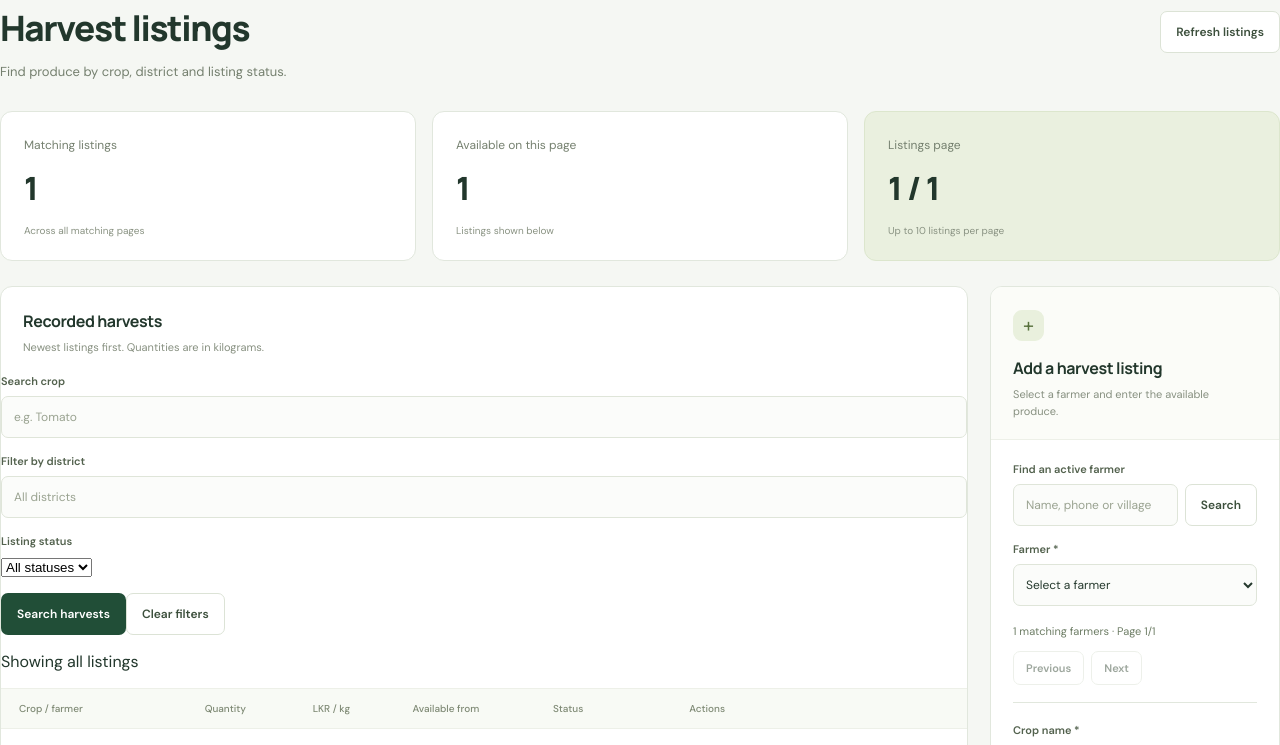
Test: HarvestListings › preserves entered details when saving fails
Select "Demo Farmer — TEST-001 — Matale" in the dropdown labelled "Farmer *" at coordinates (1135, 585), box [1013,564,1257,606]
(page scrolled)
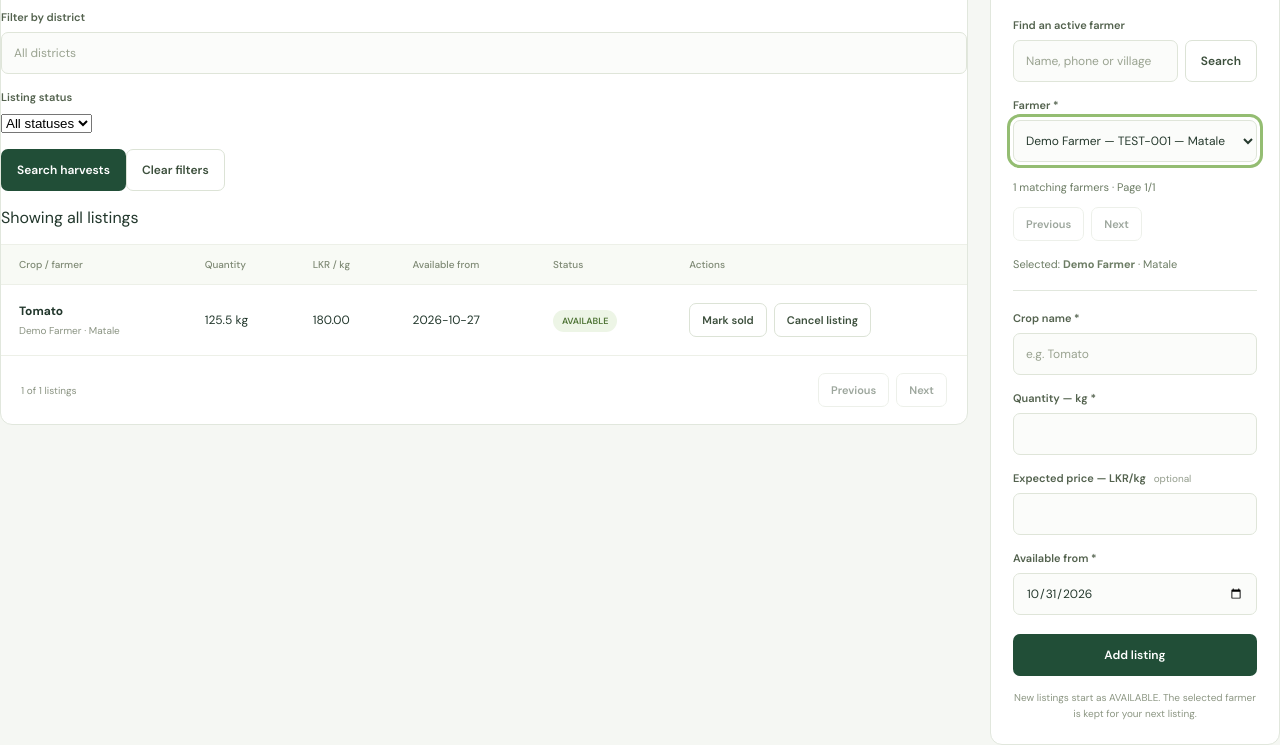
Type "  Tomato  " into the field labelled "Crop name *" at coordinates (1135, 354), box [1013,333,1257,375]
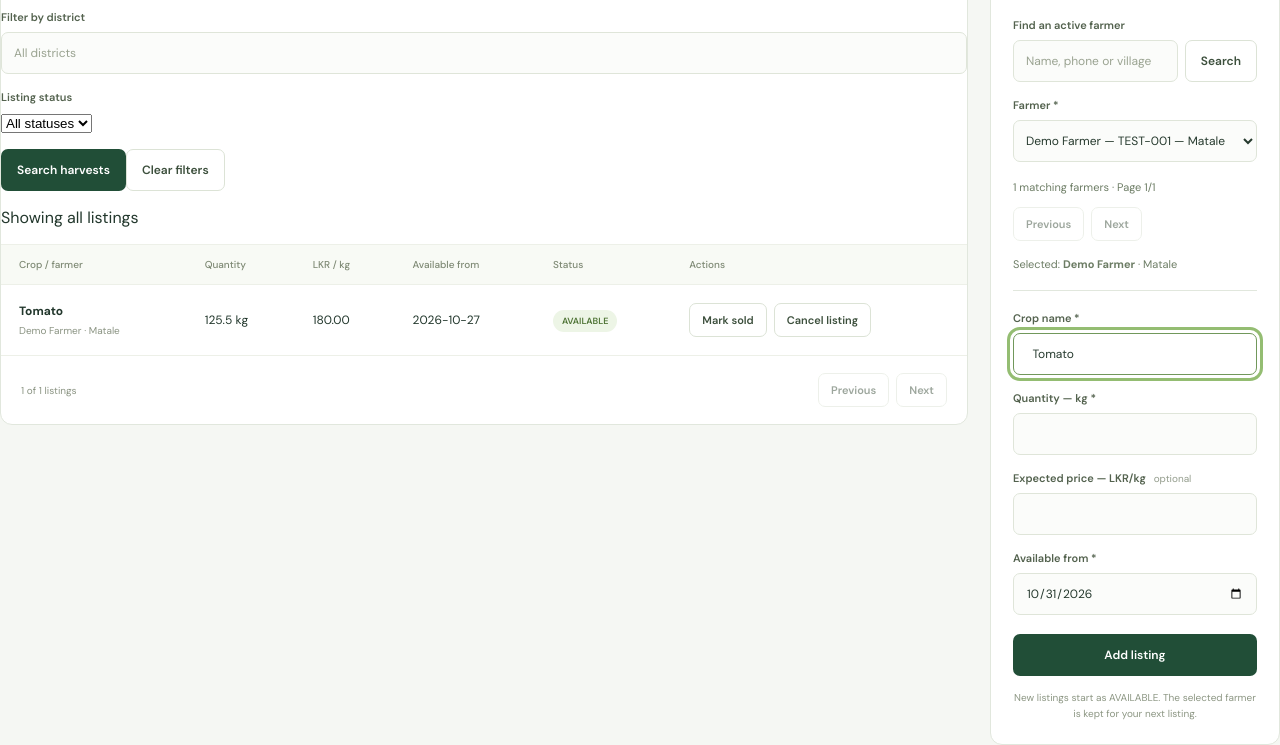
Type "125.5" into the number field labelled "Quantity — kg *" at coordinates (1135, 434), box [1013,413,1257,455]
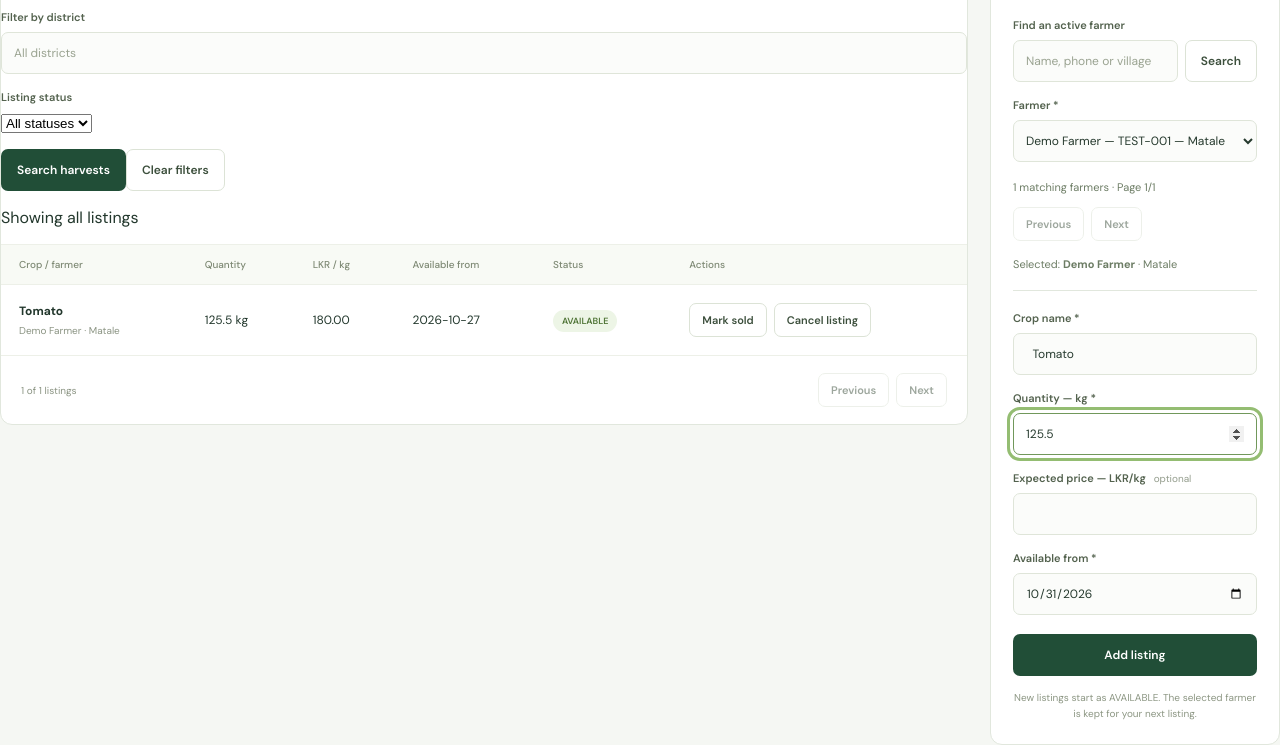
Type "180" into the number field labelled "Expected price — LKR/kg optional" at coordinates (1135, 514), box [1013,493,1257,535]
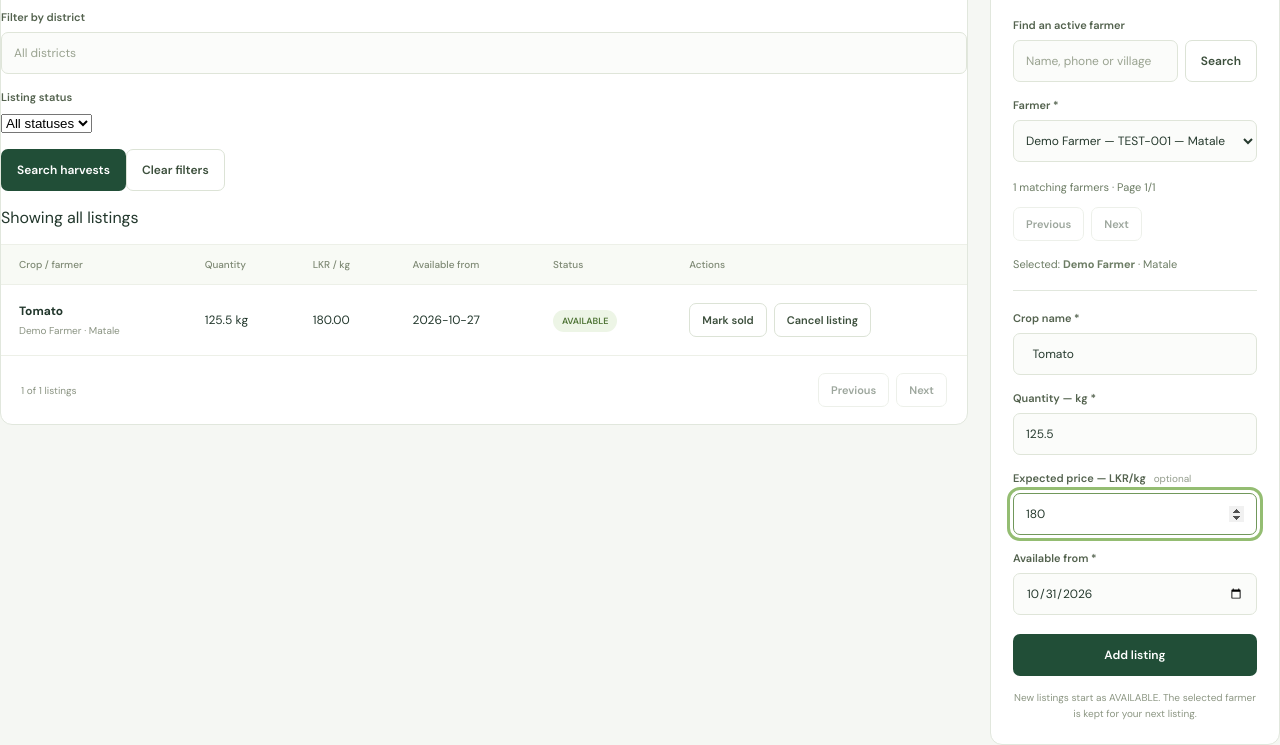
Type "2026-10-27" into the date field labelled "Available from *" at coordinates (1135, 594), box [1013,573,1257,615]
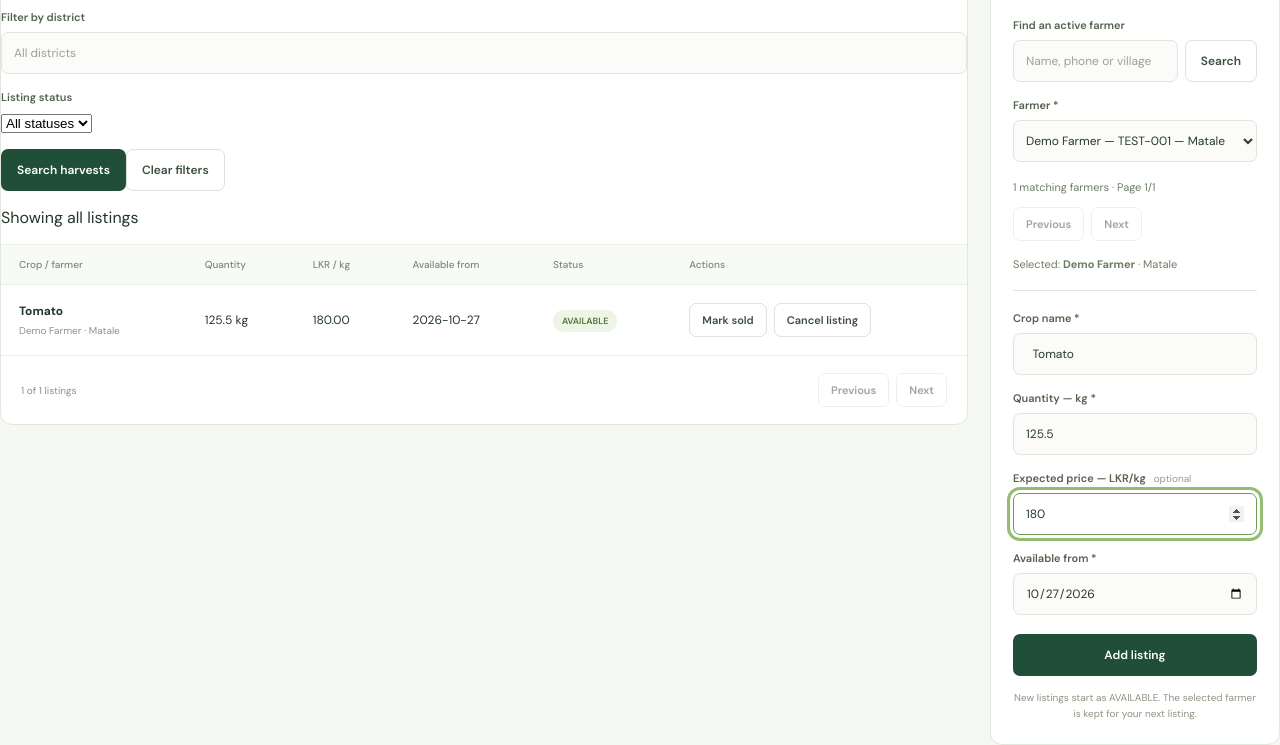
Click the button "Add listing" at coordinates (1135, 655), box [1013,634,1257,676]
(page scrolled)
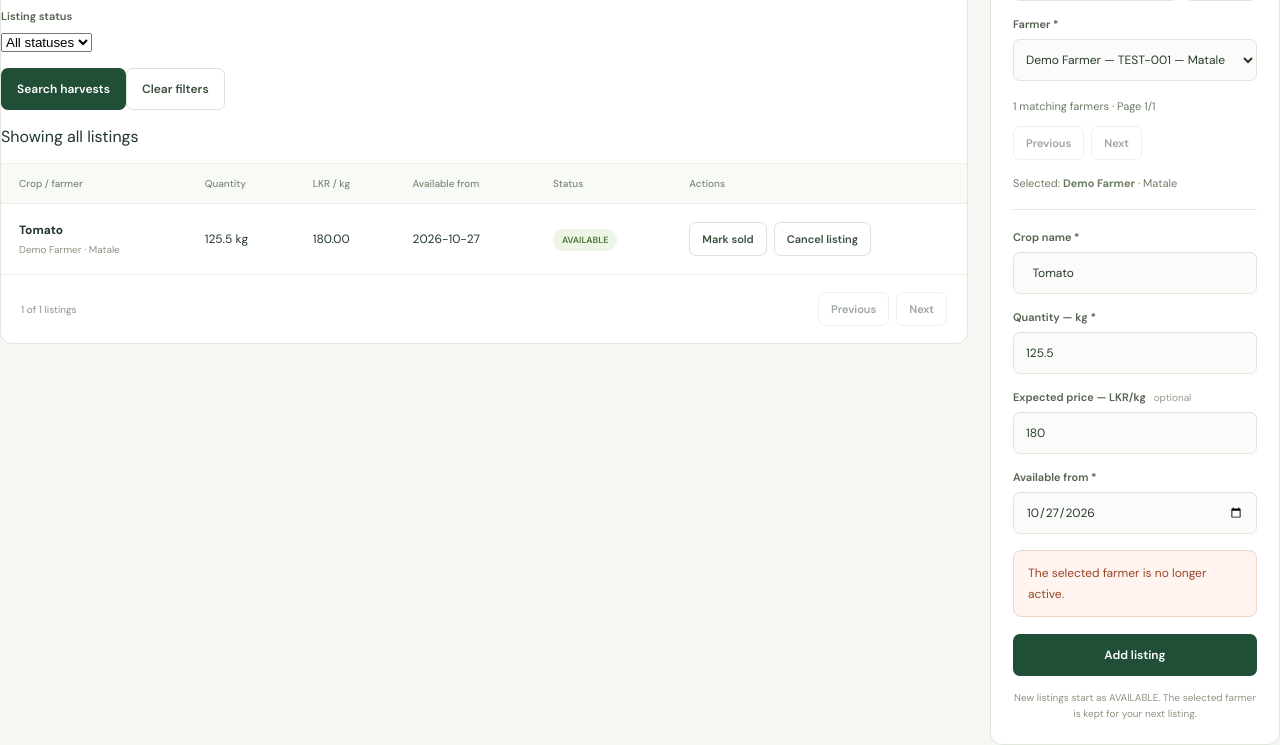
Expected: the button "Add listing" is enabled, [1013,634,1257,676]
Expected: the message reads "The selected farmer is no longer active.", [1028,565,1206,602]
